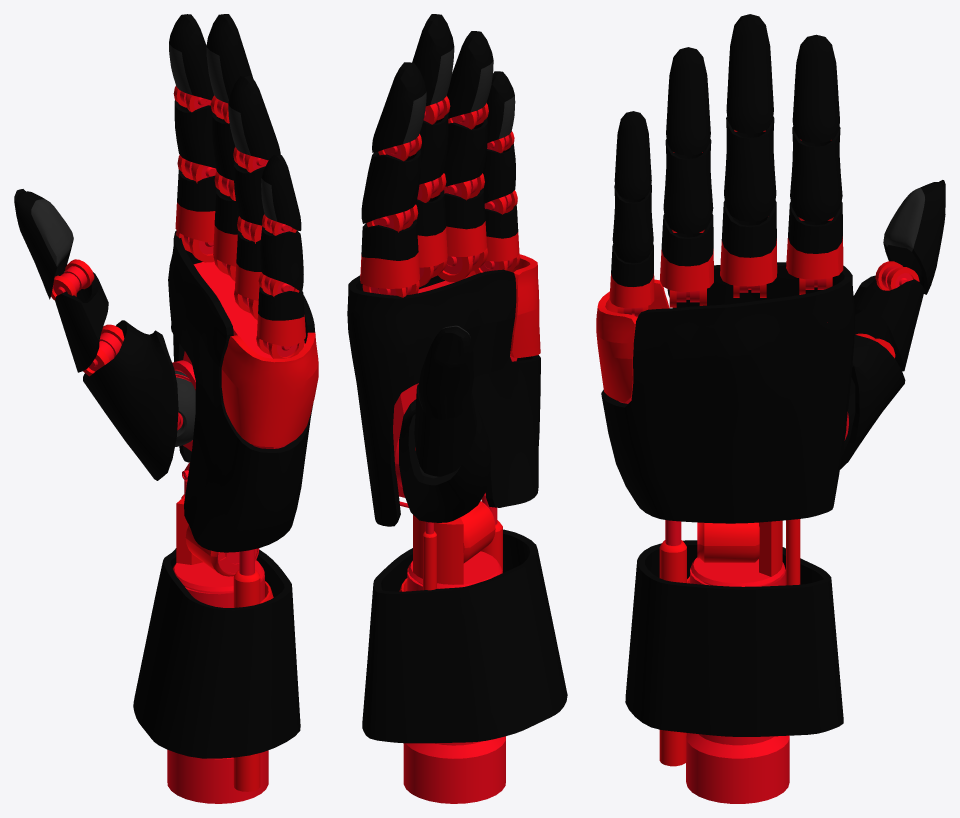
The model's file is lefthand 1.fbx.
3 renders of one model, left to right at view 1: azimuth 30°, elevation 25°; view 2: azimuth 150°, elevation 25°; view 3: azimuth 270°, elevation 25°, orthographic.
Parts seen in each view (by area): view 1: Cylinder.030, Sphere.001, Cylinder.002, Cylinder.001, Cylinder.025, Cylinder.019, Cylinder.020, Cylinder.029, Cylinder.022, Cylinder.003, Cylinder.027, Cylinder.028 (+4 smaller); view 2: Cylinder.030, Sphere.001, Cylinder.002, Cylinder.020, Cylinder.003, Cylinder.019, Cylinder.001, Cylinder.025, Cylinder.024, Cylinder.022, Cylinder.026, Cylinder.021 (+4 smaller); view 3: Cylinder.030, Cylinder.002, Cylinder.022, Cylinder.023, Cylinder.019, Sphere.001, Cylinder.001, Cylinder.021, Cylinder.025, Cylinder.003, Cylinder.020, Cylinder.026 (+4 smaller).
Boxes of the visible parts, left/top/right/bottom form: Cylinder.030: left=133, top=230, right=318, bottom=803; Sphere.001: left=83, top=320, right=195, bottom=480; Cylinder.002: left=14, top=189, right=94, bottom=300; Cylinder.001: left=55, top=272, right=124, bottom=376; Cylinder.025: left=228, top=75, right=280, bottom=172; Cylinder.019: left=169, top=14, right=213, bottom=112; Cylinder.020: left=175, top=169, right=216, bottom=262; Cylinder.029: left=256, top=286, right=305, bottom=358; Cylinder.022: left=206, top=14, right=253, bottom=123; Cylinder.003: left=174, top=100, right=216, bottom=183; Cylinder.027: left=258, top=226, right=303, bottom=296; Cylinder.028: left=261, top=154, right=301, bottom=235; Cylinder.030: left=347, top=254, right=567, bottom=803; Sphere.001: left=399, top=399, right=491, bottom=522; Cylinder.002: left=418, top=325, right=473, bottom=419; Cylinder.020: left=360, top=219, right=419, bottom=297; Cylinder.003: left=361, top=149, right=420, bottom=232; Cylinder.019: left=372, top=62, right=426, bottom=161; Cylinder.001: left=414, top=384, right=476, bottom=476; Cylinder.025: left=447, top=31, right=493, bottom=129; Cylinder.024: left=438, top=188, right=487, bottom=282; Cylinder.022: left=412, top=14, right=454, bottom=124; Cylinder.026: left=444, top=118, right=487, bottom=200; Cylinder.021: left=416, top=190, right=447, bottom=287; Cylinder.030: left=596, top=262, right=855, bottom=803; Cylinder.002: left=875, top=180, right=945, bottom=294; Cylinder.022: left=726, top=14, right=773, bottom=133; Cylinder.023: left=724, top=116, right=776, bottom=221; Cylinder.019: left=792, top=34, right=839, bottom=142; Sphere.001: left=840, top=335, right=905, bottom=469; Cylinder.001: left=853, top=275, right=923, bottom=371; Cylinder.021: left=720, top=200, right=777, bottom=297; Cylinder.025: left=666, top=47, right=710, bottom=155; Cylinder.003: left=790, top=126, right=842, bottom=221; Cylinder.020: left=786, top=201, right=843, bottom=294; Cylinder.026: left=663, top=139, right=713, bottom=234.
Bounding box in the file's own units: 177 × 721 × 295.
